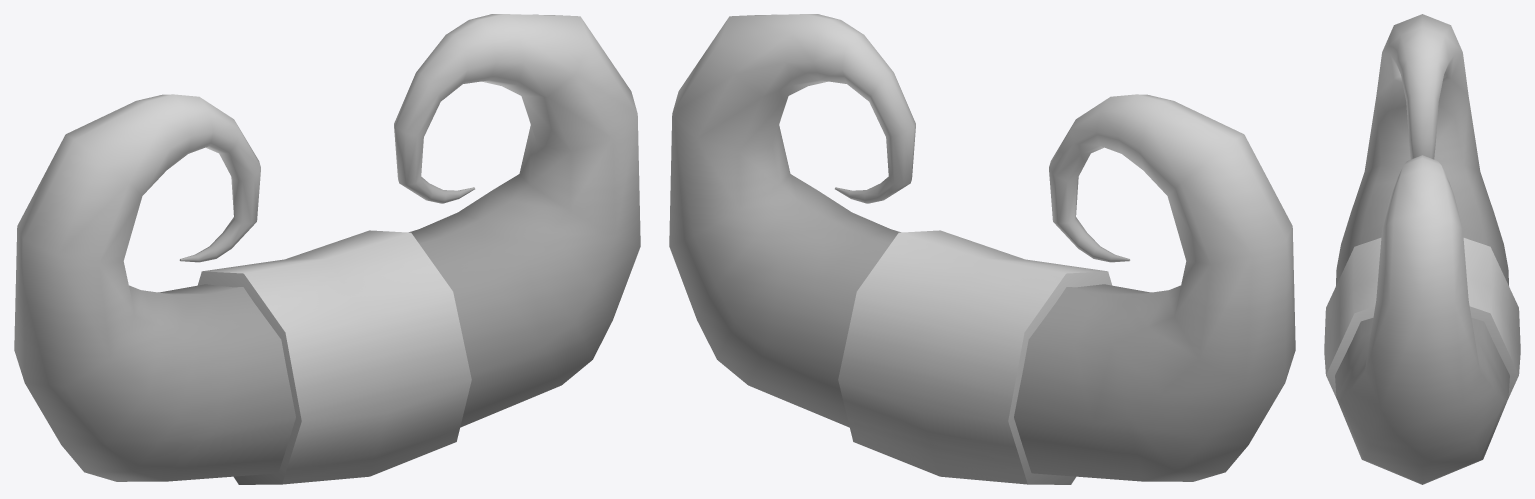
File: stone_guard_050.glb
3 renders of one model, left to right at view 1: azimuth 30°, elevation 25°; view 2: azimuth 150°, elevation 25°; view 3: azimuth 270°, elevation 25°, orthographic. The views are drawn at different scales.
Visible parts, largest first — view 1: stone_guard.050; view 2: stone_guard.050; view 3: stone_guard.050.
Part boxes in pixels (box(x1,y1,x2,y2)): stone_guard.050: box(14, 14, 640, 484); stone_guard.050: box(669, 14, 1295, 484); stone_guard.050: box(1324, 14, 1520, 484).
Size of the model in its own units: 5.58 by 3.68 by 1.92.
1 material, 1 textured.
